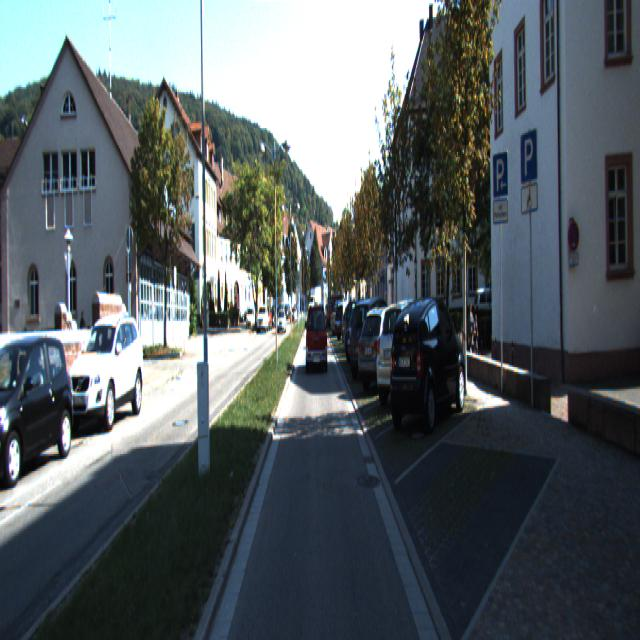Car: (0, 330, 79, 487), (387, 294, 468, 436), (64, 313, 145, 429), (375, 298, 449, 410), (354, 305, 417, 393), (348, 299, 401, 382), (347, 299, 396, 368), (342, 297, 386, 362), (306, 304, 328, 372), (330, 304, 356, 336), (327, 294, 349, 328), (257, 305, 269, 333), (277, 308, 286, 332)
